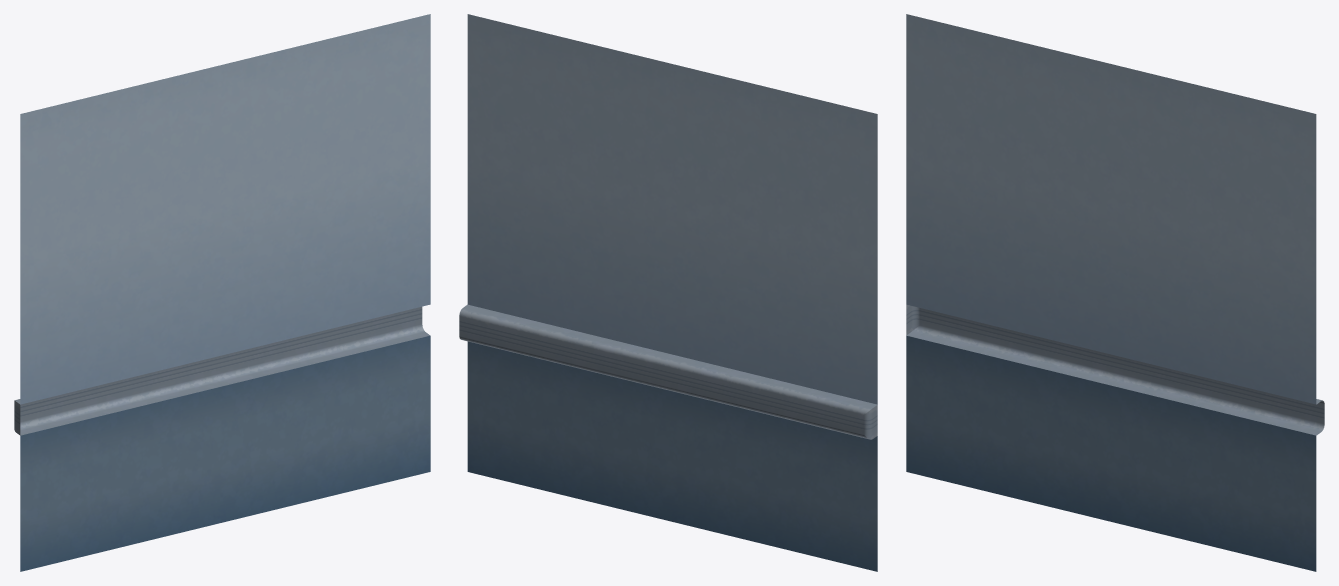
Rendered from Lvl2_Wall_EndRight.fbx.
The picture shows the model from 3 angles, left to right: view 1: azimuth 30°, elevation 25°; view 2: azimuth 150°, elevation 25°; view 3: azimuth 330°, elevation 25°; orthographic projection.
Visible parts, largest first — view 1: Lvl2_Wall_EndRight; view 2: Lvl2_Wall_EndRight; view 3: Lvl2_Wall_EndRight.
Boxes of the visible parts, x1,y1,x2,y2 form: Lvl2_Wall_EndRight: [14, 14, 430, 571]; Lvl2_Wall_EndRight: [459, 14, 877, 571]; Lvl2_Wall_EndRight: [906, 14, 1324, 571].
Size of the model in its own units: 375 by 400 by 13.01.
Materials: 1 (1 with a texture image).
